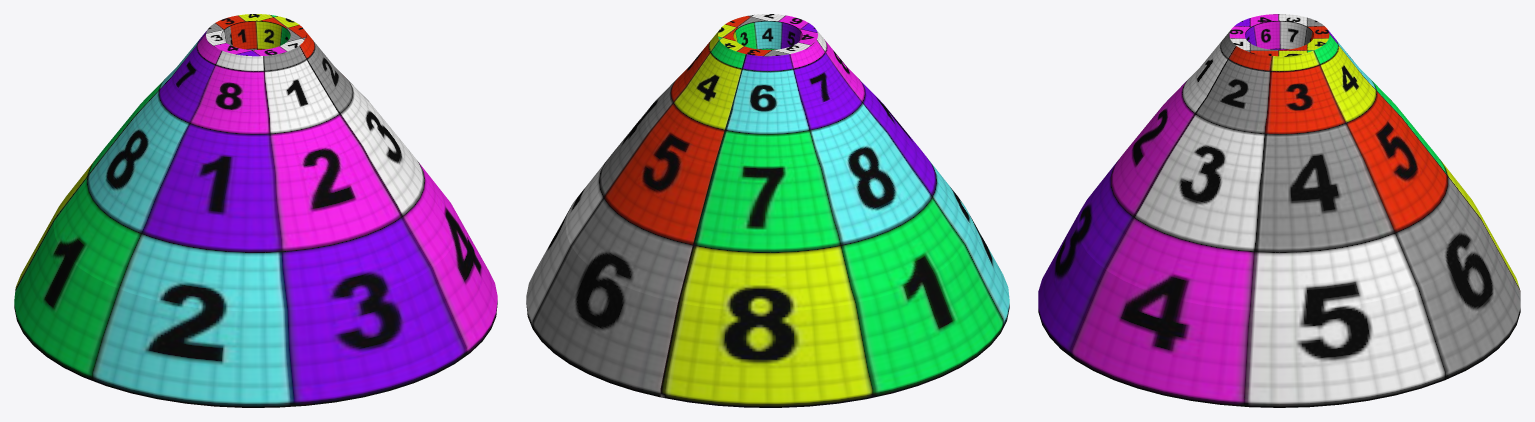
Rendered from Volcano.fbx.
3 views of the same model, side by side, from view 1: azimuth 30°, elevation 25°; view 2: azimuth 150°, elevation 25°; view 3: azimuth 270°, elevation 25° (orthographic).
Visible parts, largest first — view 1: pCylinder1; view 2: pCylinder1; view 3: pCylinder1.
Part boxes in pixels (<box>): pCylinder1: <box>14,14,497,407</box>; pCylinder1: <box>526,14,1009,407</box>; pCylinder1: <box>1038,14,1520,407</box>.
Size of the model in its own units: 28.41 by 17.57 by 28.36.
